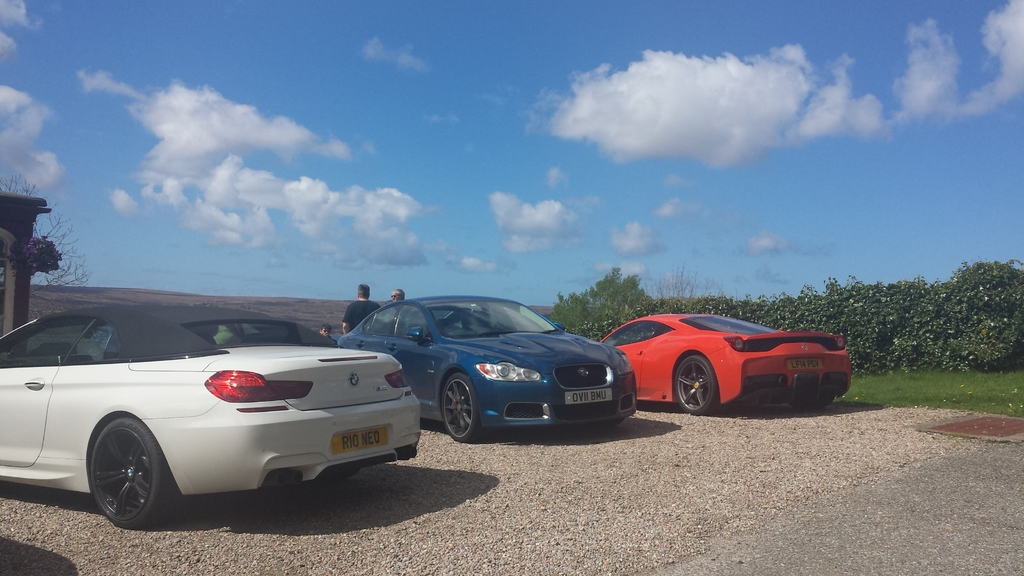Car: (0, 302, 426, 522), (335, 290, 641, 444), (593, 310, 852, 416)
